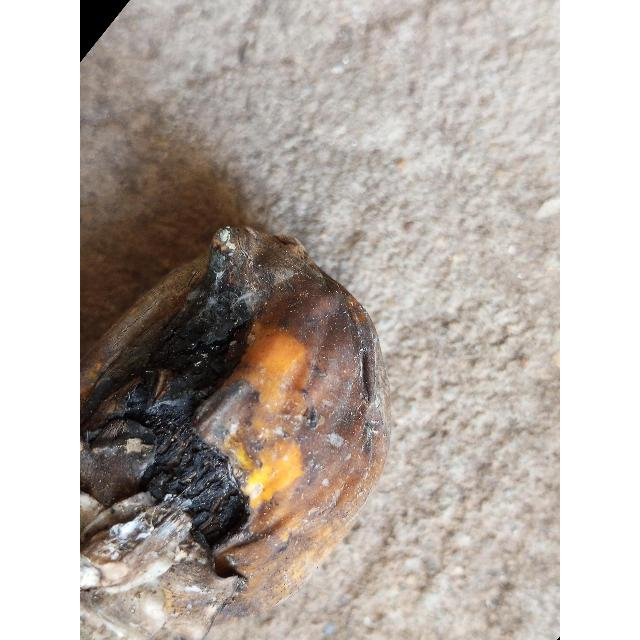damaged: (80, 225, 389, 640)
